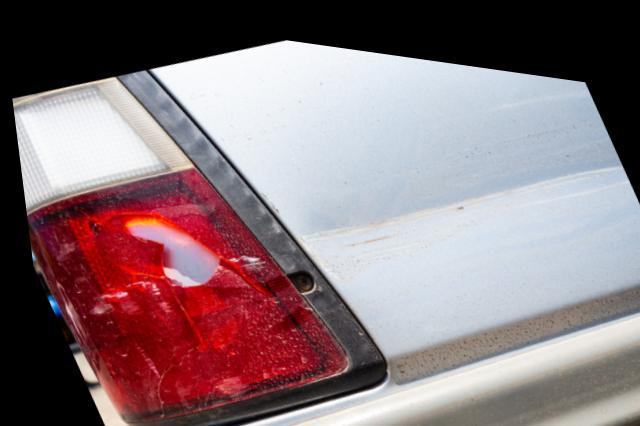lamp broken: (10, 73, 337, 419)
scratch: (284, 139, 634, 274)
